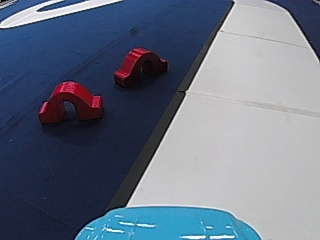bridge: (36, 77, 105, 125), (110, 44, 168, 89)
